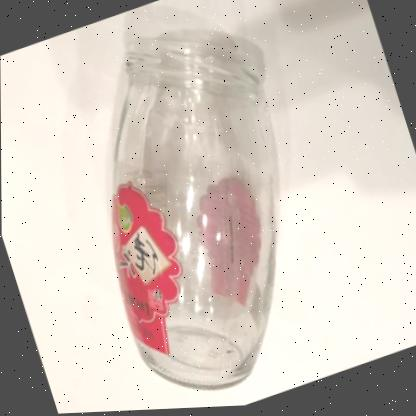Glass: (110, 39, 278, 390)
